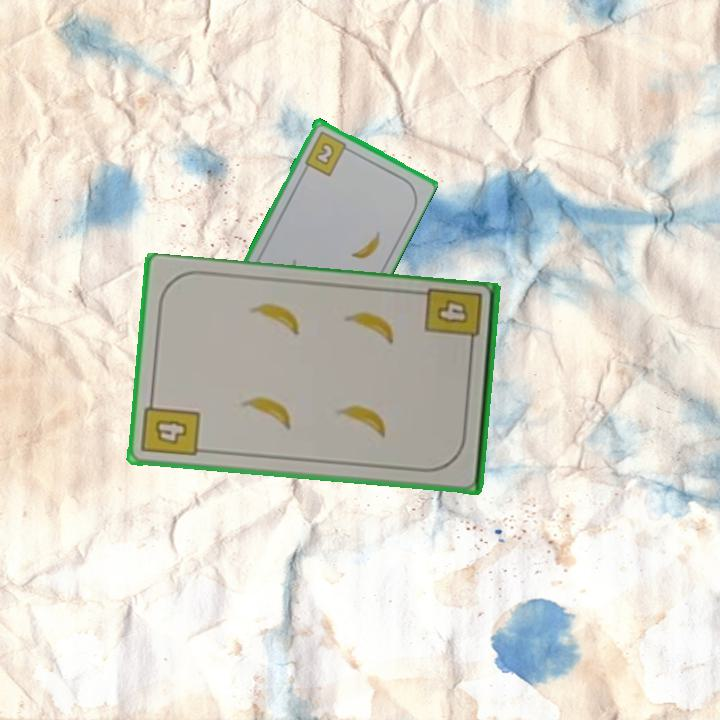2b: (301, 127, 354, 178)
4b: (422, 285, 486, 354), (138, 393, 203, 460)
